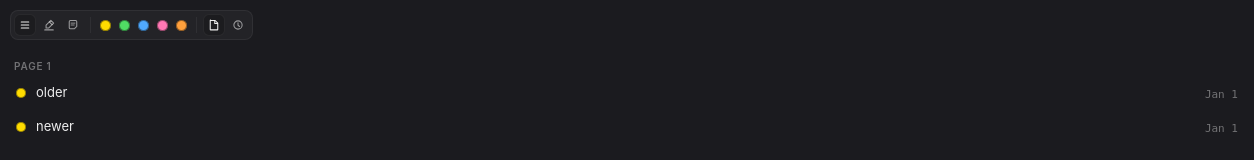
Test: MarksTabContent › sorts by most recent when recent mode is active
Click the button named "Sort by most recent".
click(238, 25)  # box [227,14,249,36]
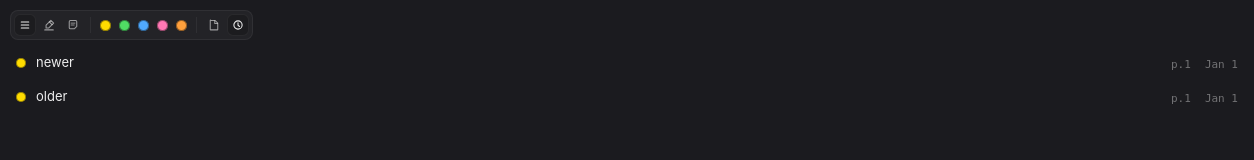
Expected: the text "newer" is shown, [36,54,74,70]
Expected: the text "older" is shown, [36,88,67,104]
